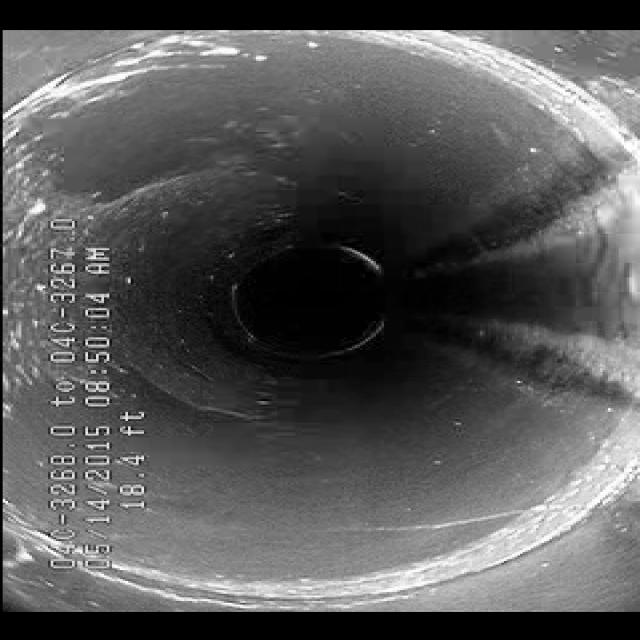Crack: (310, 479, 594, 558)
